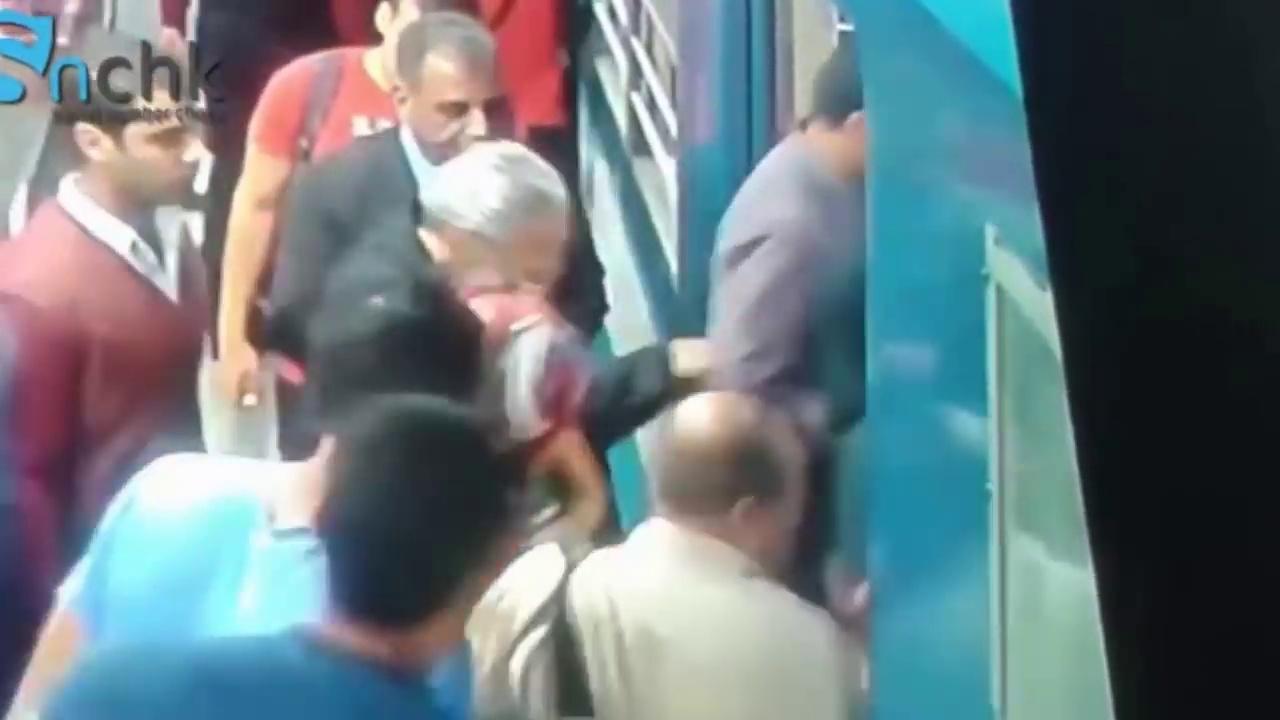face: (411, 58, 501, 140), (126, 125, 207, 211)
